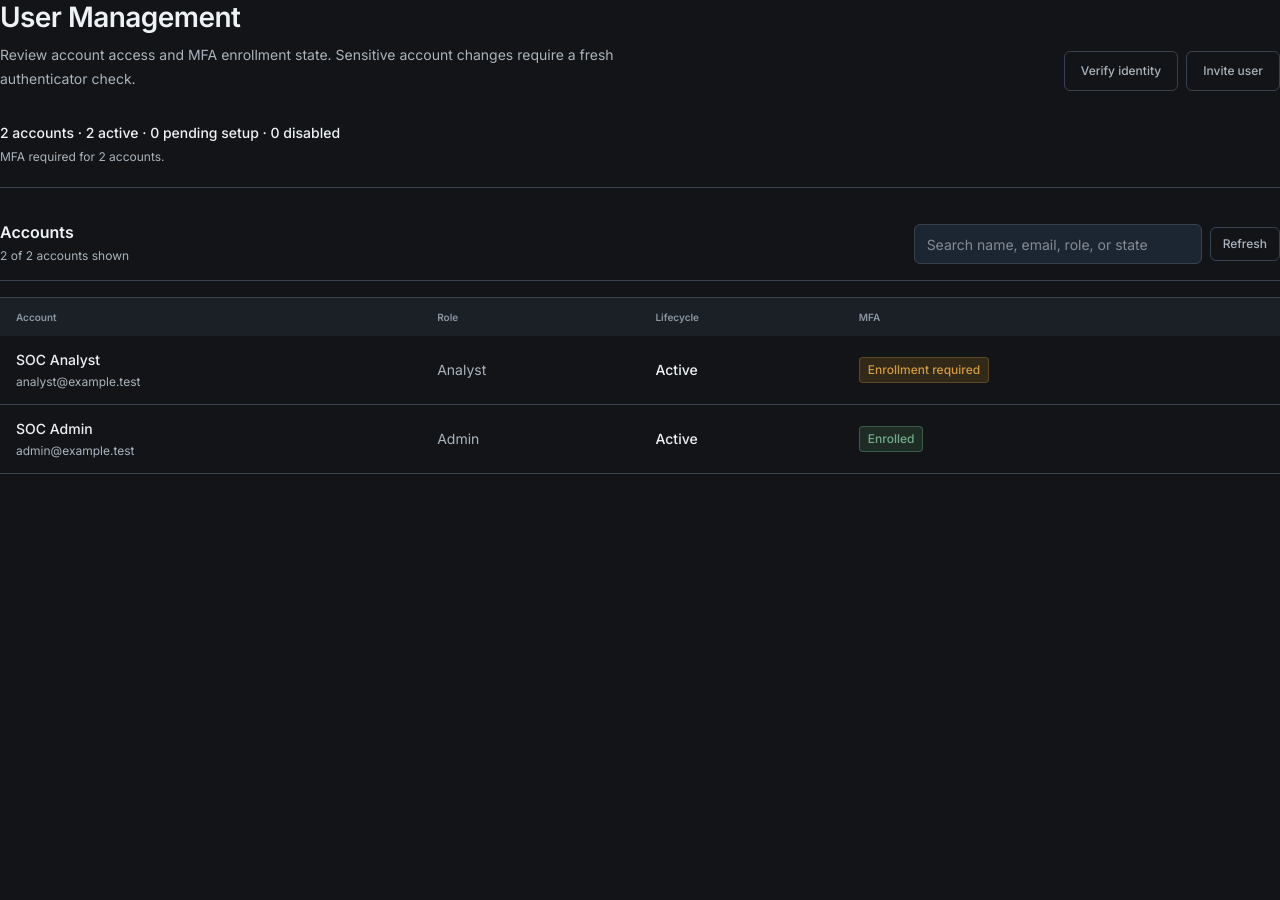
Test: UserManagementWorkspace › opens an account from any row cell and keeps keyboard access on its Account button
Click the text "analyst@example.test".
click(78, 382)  # box [16, 374, 140, 389]
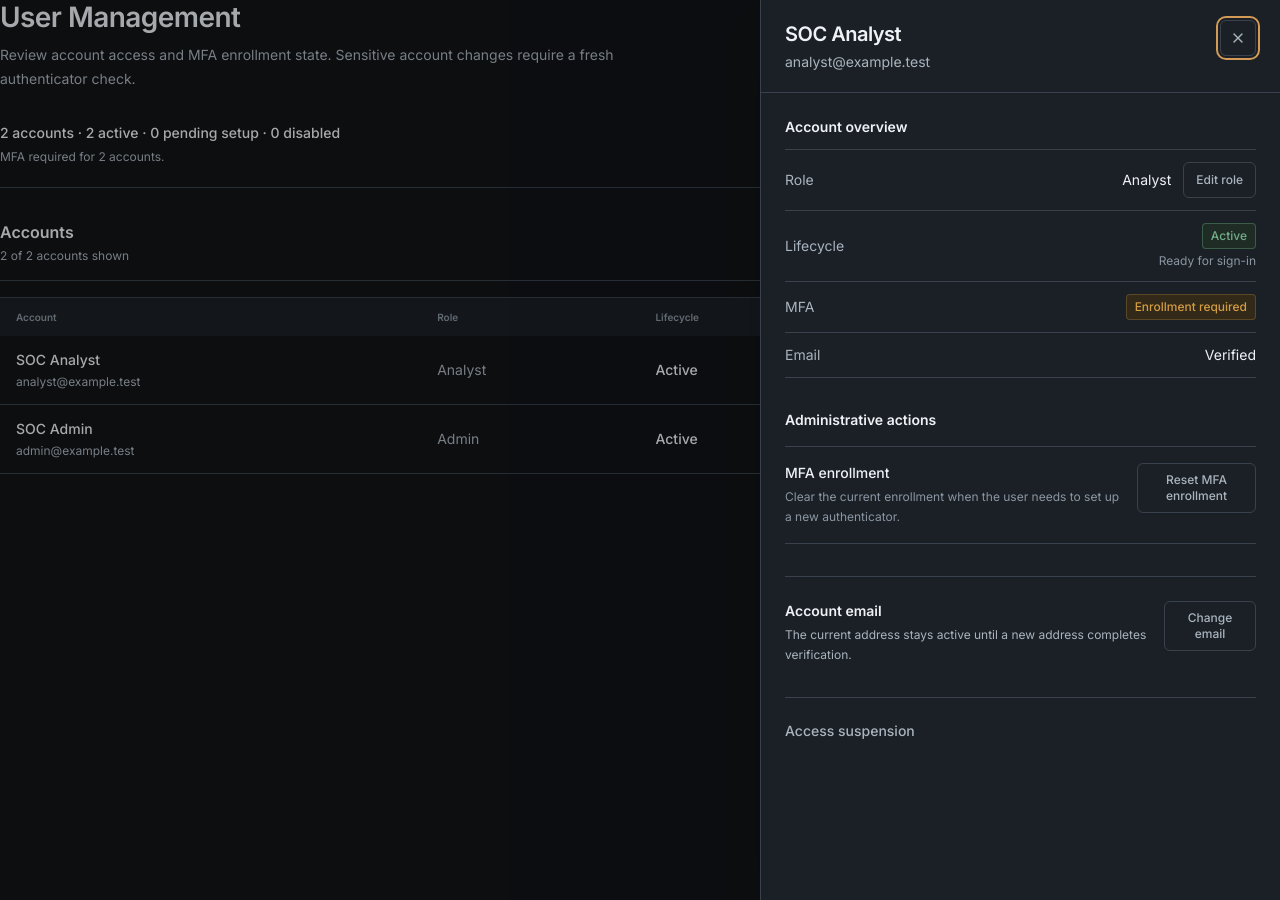
Expected: the dialog "SOC Analyst" is shown, [760, 0, 1279, 899]
Click the button named "Close account details".
click(1238, 38)  # box [1220, 20, 1256, 56]
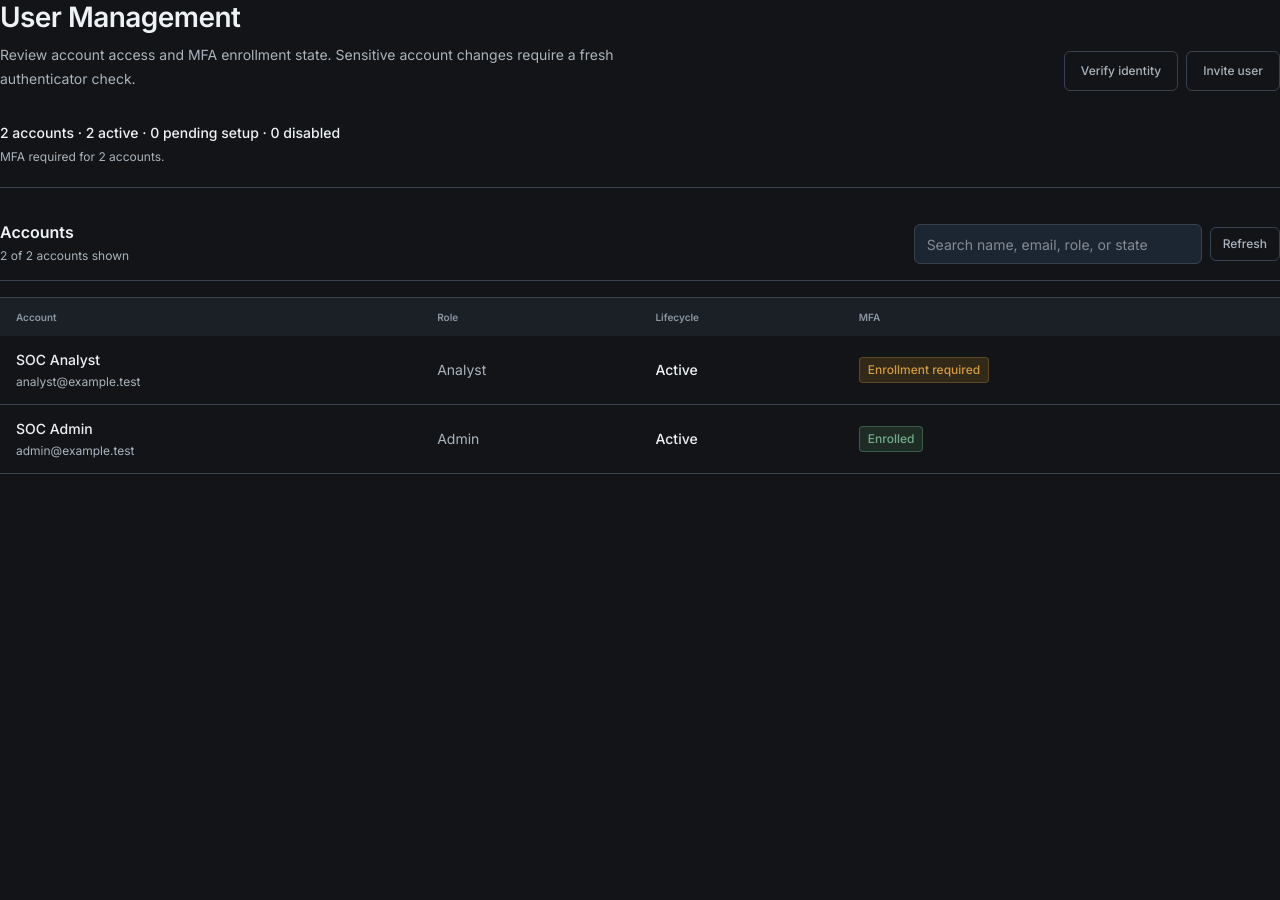
Click the text "admin@example.test".
click(75, 451)  # box [16, 443, 134, 458]
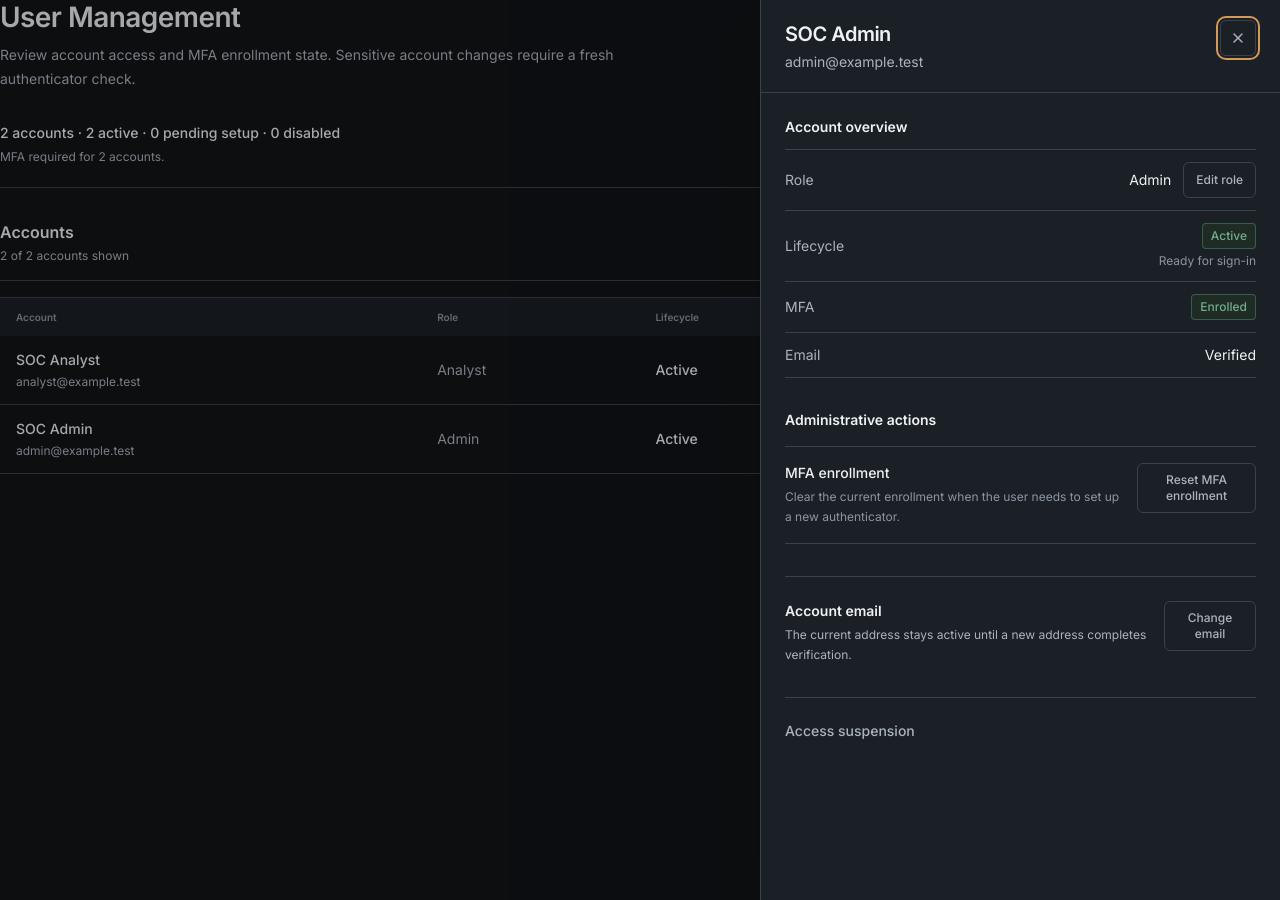
Expected: the dialog "SOC Admin" is shown, [760, 0, 1279, 899]
Click the button named "Close account details".
click(1238, 38)  # box [1220, 20, 1256, 56]
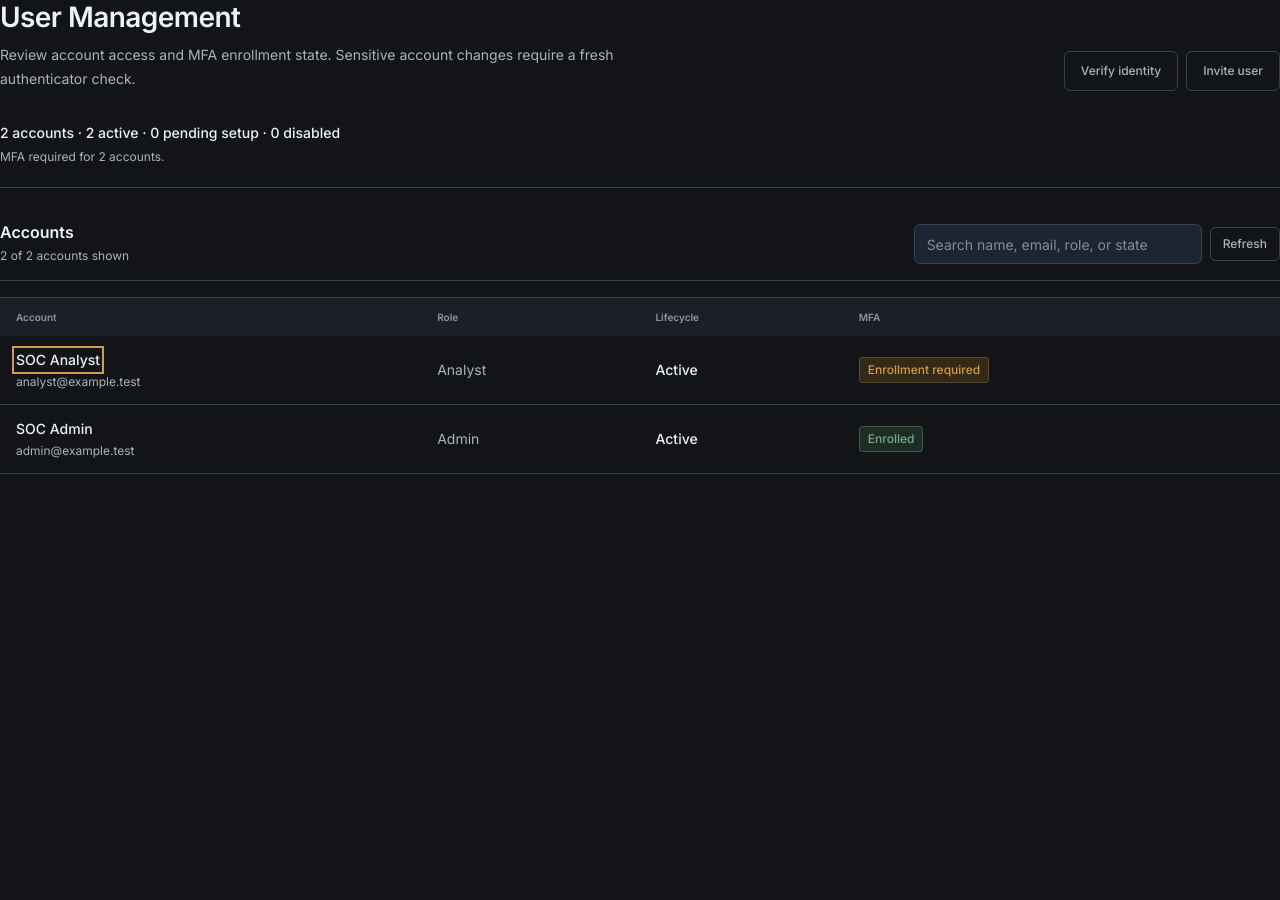
Press Enter
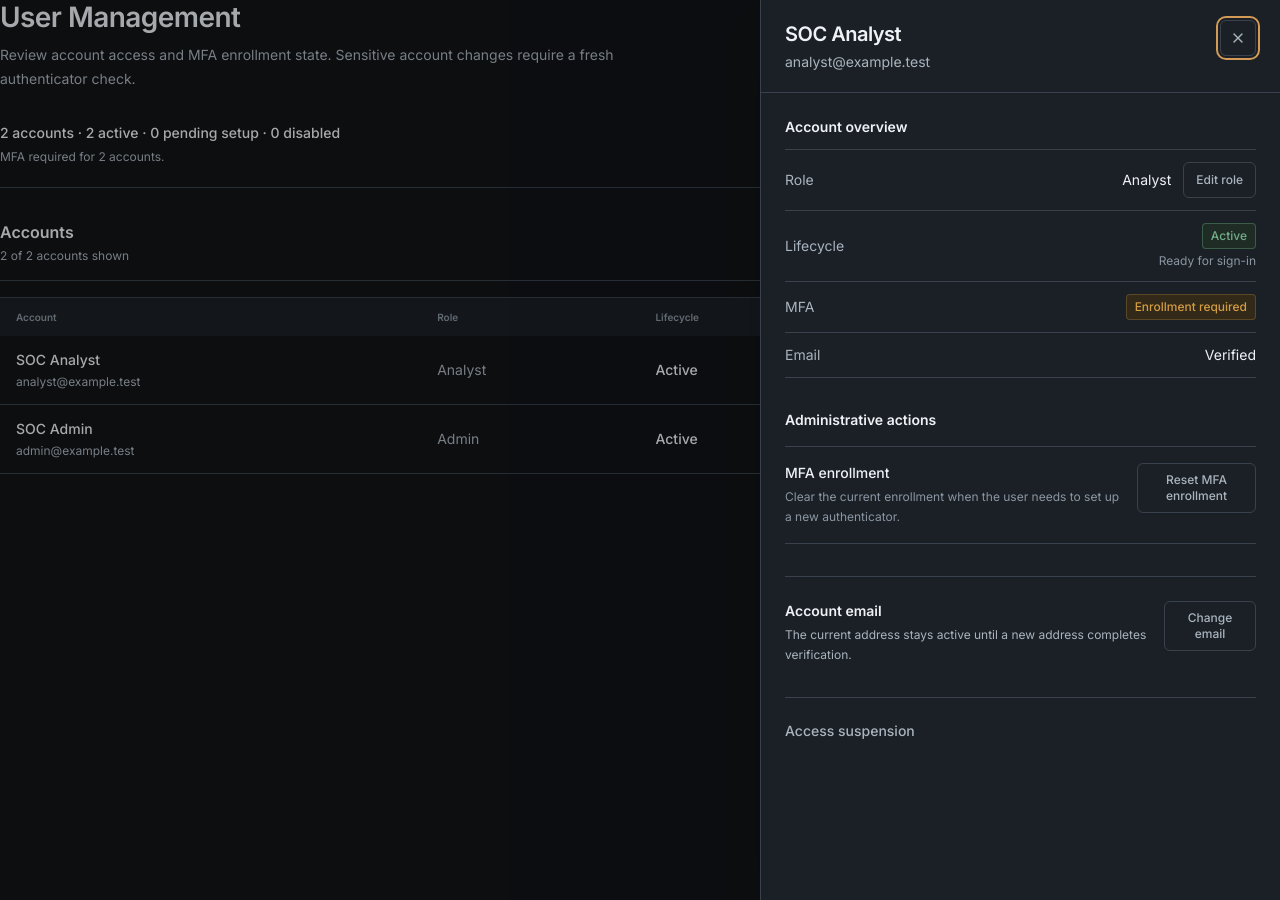
Expected: the dialog "SOC Analyst" is shown, [760, 0, 1279, 899]
